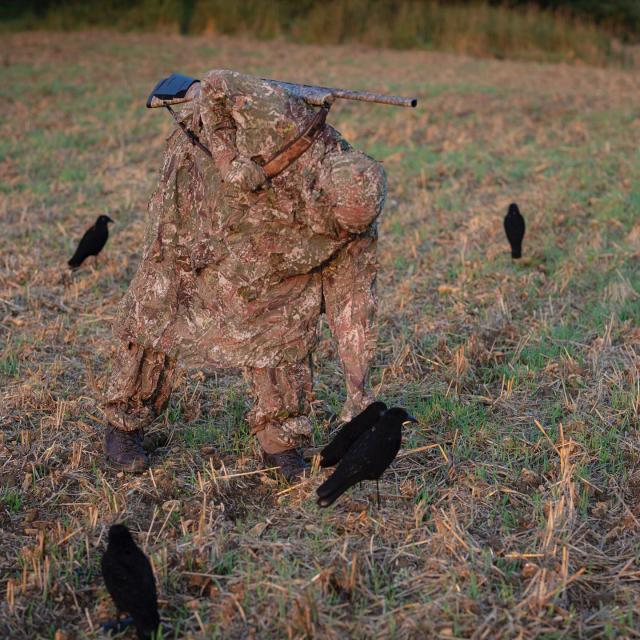Human: (103, 67, 418, 484)
